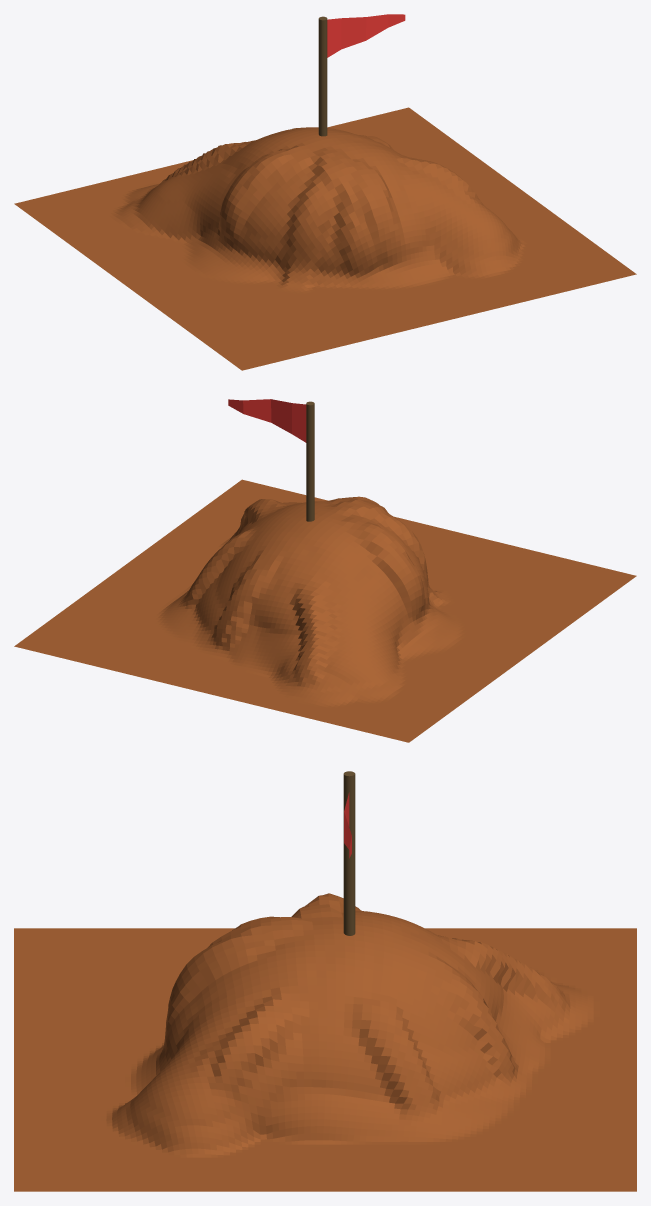
File: mouse_hill.fbx
The picture shows the model from 3 angles, top to bottom: view 1: azimuth 30°, elevation 25°; view 2: azimuth 150°, elevation 25°; view 3: azimuth 270°, elevation 25°; orthographic projection. The views are drawn at different scales.
Visible parts, largest first — view 1: Plane.001, Plane.002, Cylinder.003; view 2: Plane.001, Plane.002, Cylinder.003; view 3: Plane.001, Cylinder.003.
Boxes of the visible parts, box(x1,y1,x2,y2) form: Plane.001: box(14, 107, 636, 370); Plane.002: box(327, 14, 405, 57); Cylinder.003: box(318, 16, 327, 136); Plane.001: box(14, 479, 636, 742); Plane.002: box(228, 399, 306, 442); Cylinder.003: box(306, 401, 314, 521); Plane.001: box(14, 893, 636, 1191); Cylinder.003: box(343, 771, 355, 935).
Bounding box in the file's own units: 2000 × 1029 × 2000.
